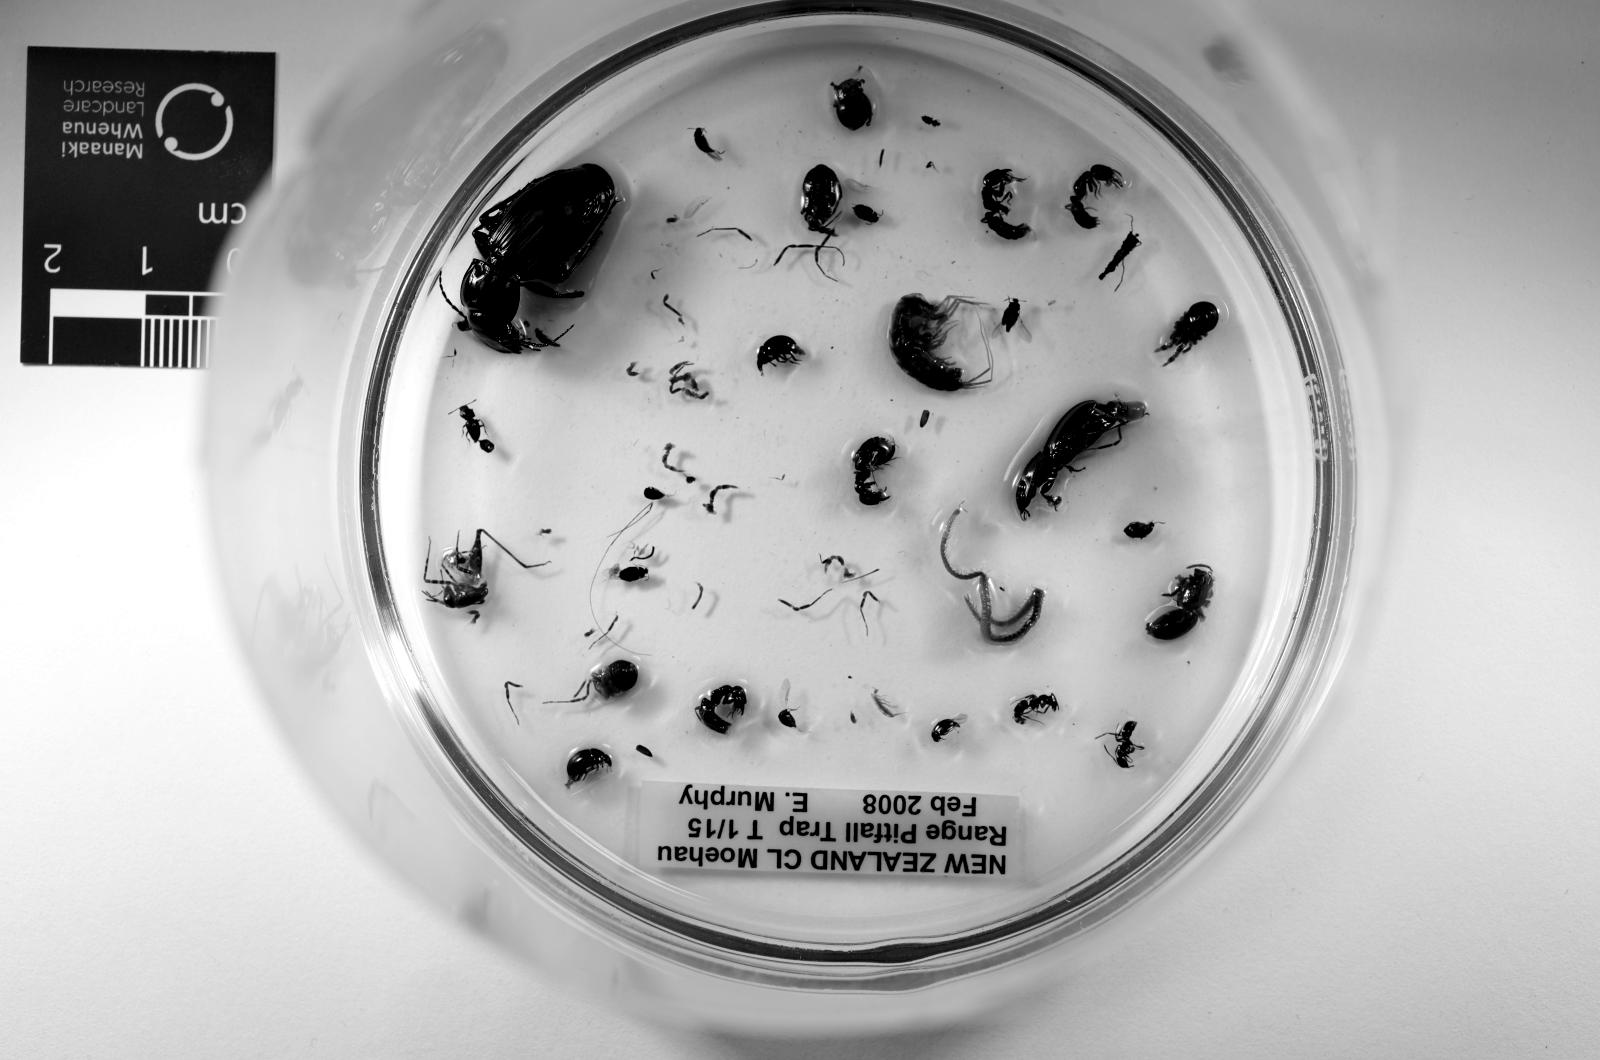amphipoda: (888, 295, 975, 391)
araneae: (1147, 565, 1212, 640)
carabidae: (459, 165, 619, 354), (1016, 401, 1147, 519)
coleoptera: (756, 335, 806, 376), (566, 748, 612, 789), (694, 127, 722, 161), (459, 407, 481, 444), (1000, 298, 1019, 332), (931, 720, 959, 742), (616, 565, 647, 584), (1125, 522, 1156, 540), (853, 205, 881, 224), (644, 488, 666, 500)
collembola: (941, 506, 1044, 646), (872, 689, 900, 717)
formicidae: (1066, 165, 1125, 230), (981, 168, 1031, 239), (853, 435, 894, 506), (694, 686, 747, 736), (1097, 720, 1144, 767), (1012, 693, 1059, 727)
opiliones: (778, 165, 841, 267), (1156, 301, 1219, 366), (569, 658, 638, 705), (831, 78, 872, 130)
orthoptera: (425, 528, 547, 609)
